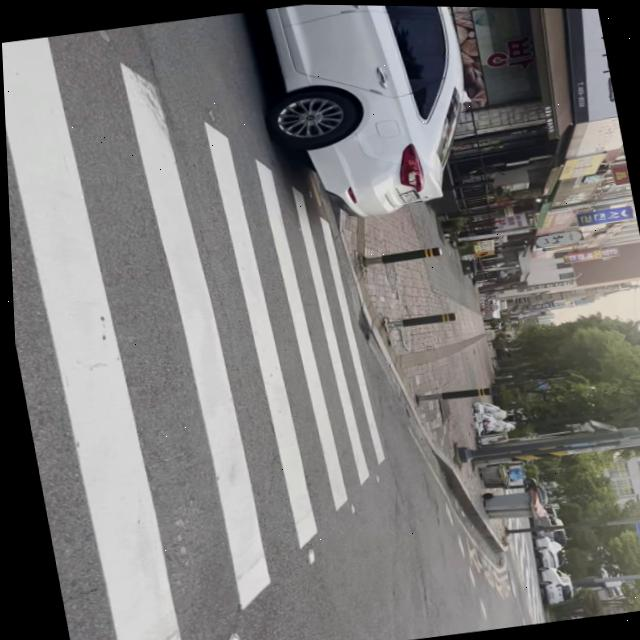crosswalk: (9, 211, 381, 518)
tactile_paving: (388, 329, 496, 369)
